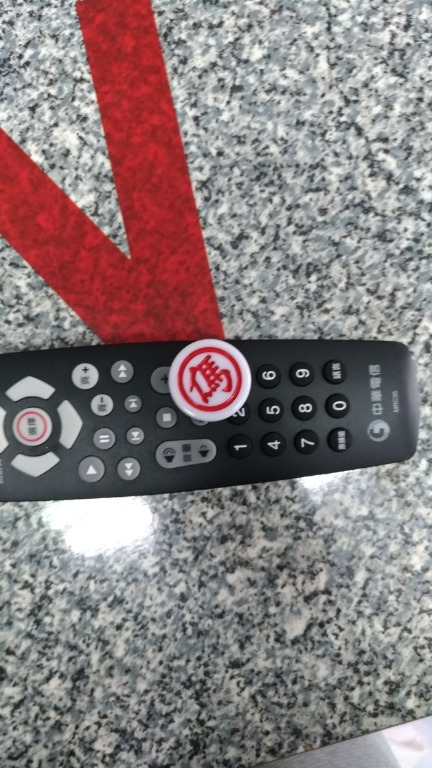r-knight: (157, 331, 262, 422)
